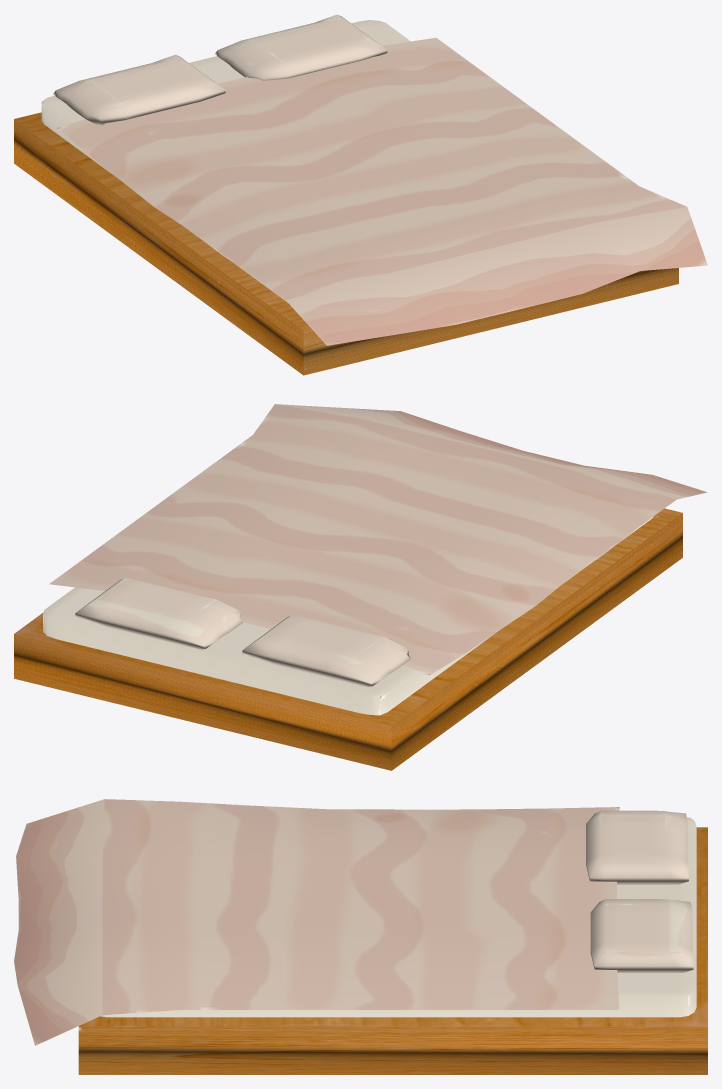
The model's file is bed.fbx.
3 renders of one model, top to bottom at view 1: azimuth 30°, elevation 25°; view 2: azimuth 150°, elevation 25°; view 3: azimuth 270°, elevation 25°, orthographic. The views are drawn at different scales.
Visible parts, largest first — view 1: Cube; view 2: Cube; view 3: Cube.
Boxes of the visible parts, box(x1,y1,x2,y2) form: Cube: box(14, 14, 707, 375); Cube: box(14, 404, 707, 770); Cube: box(14, 799, 707, 1074).
Size of the model in its own units: 734 by 146 by 1014.
